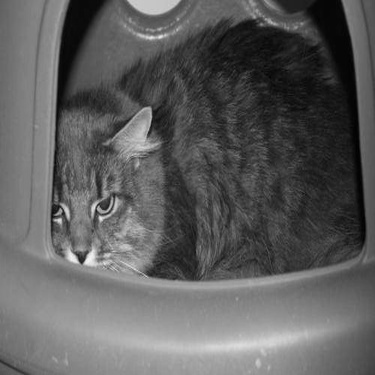cat: (1, 11, 363, 296)
